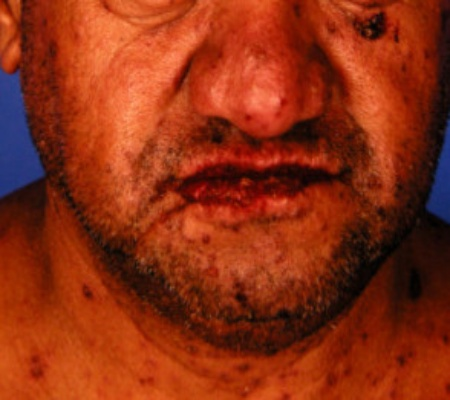SJS-TEN: (142, 148, 357, 238), (344, 0, 401, 53)
